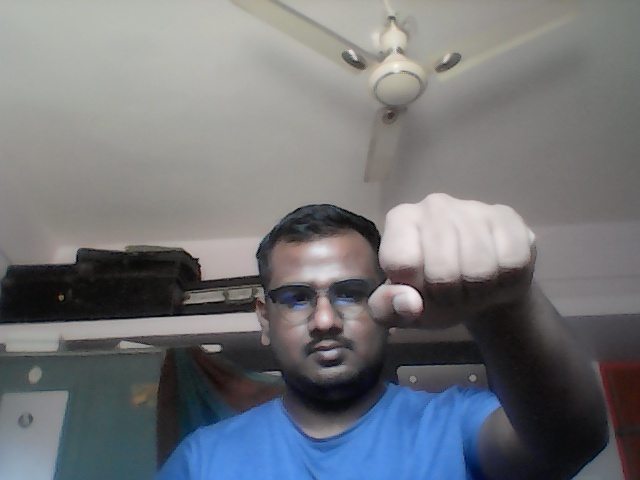Yes: (368, 188, 541, 331)
